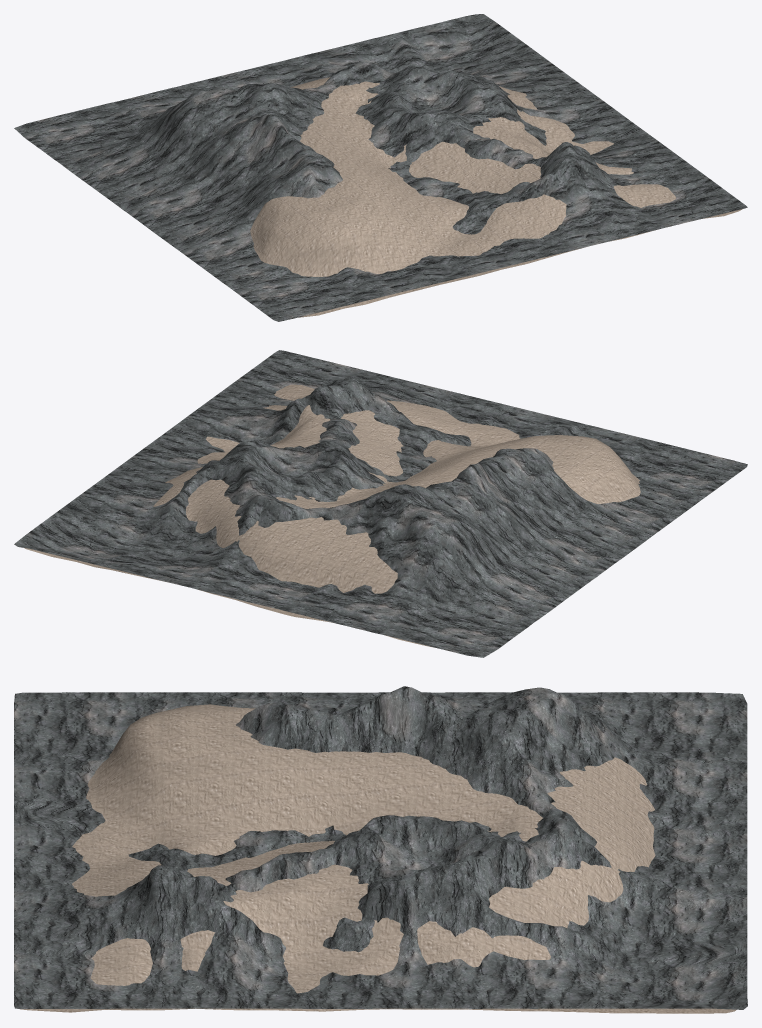
File: Island.fbx
The picture shows the model from 3 angles, top to bottom: view 1: azimuth 30°, elevation 25°; view 2: azimuth 150°, elevation 25°; view 3: azimuth 270°, elevation 25°; orthographic projection. The views are drawn at different scales.
Parts seen in each view (by area): view 1: Island, Sand; view 2: Island, Sand; view 3: Island, Sand.
Part boxes in pixels (left/top/right/bottom): Island: left=14, top=14, right=747, bottom=321; Sand: left=250, top=77, right=742, bottom=317; Island: left=14, top=350, right=747, bottom=657; Sand: left=24, top=384, right=640, bottom=647; Island: left=14, top=686, right=747, bottom=1009; Sand: left=20, top=704, right=736, bottom=1013.
Size of the model in its own units: 3.37 by 0.6034 by 3.3.
